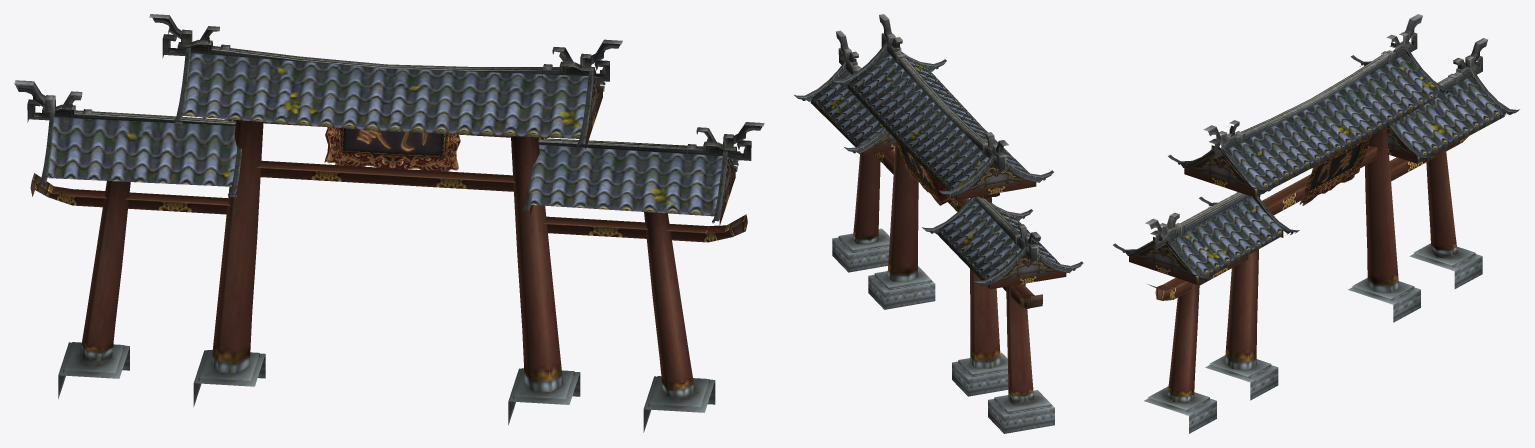
The model's file is S2_Build_XSC013_H1.FBX.
The picture shows the model from 3 angles, left to right: view 1: azimuth 30°, elevation 25°; view 2: azimuth 150°, elevation 25°; view 3: azimuth 270°, elevation 25°; orthographic projection. The views are drawn at different scales.
Visible parts, largest first — view 1: S2_Build_XSC013_H1; view 2: S2_Build_XSC013_H1; view 3: S2_Build_XSC013_H1.
Part boxes in pixels (left/top/right/bottom): S2_Build_XSC013_H1: left=14, top=14, right=764, bottom=432; S2_Build_XSC013_H1: left=794, top=14, right=1083, bottom=433; S2_Build_XSC013_H1: left=1113, top=14, right=1519, bottom=433.
Bounding box in the file's own units: 1627 × 1040 × 1402.
